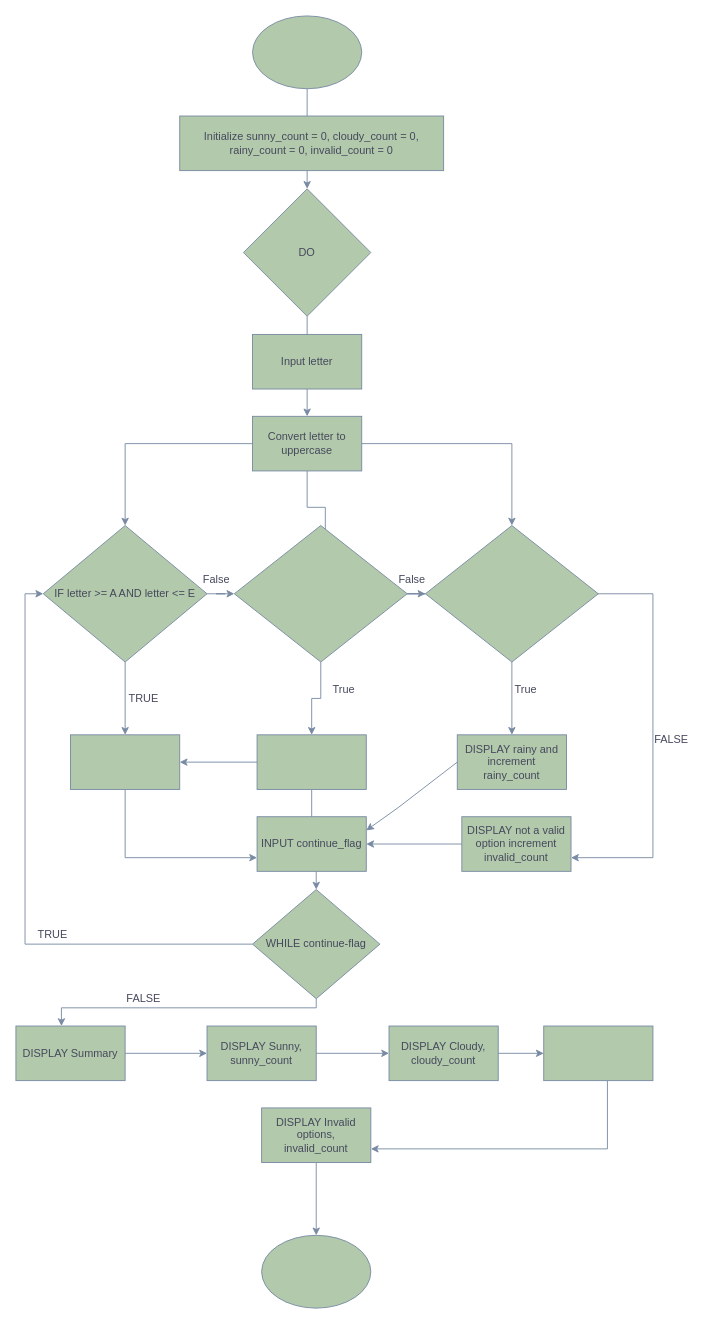
This 714x1324 diagram has some shape labels left out. The centre of each missing label's shape, as x and y in pixels:
"DISPLAY cloudy and increment cloudy_count" belongs at point (311, 761).
"DISPLAY Rainy, rainy_count" belongs at point (598, 1053).
"DISPLAY sunny and increment sunny_count" belongs at point (125, 761).
"END" belongs at point (316, 1271).
"IF letter >= J AND letter <= P" belongs at point (320, 593).
"IF letter >= Q AND letter <= X" belongs at point (511, 593).
"Start" belongs at point (307, 52).
